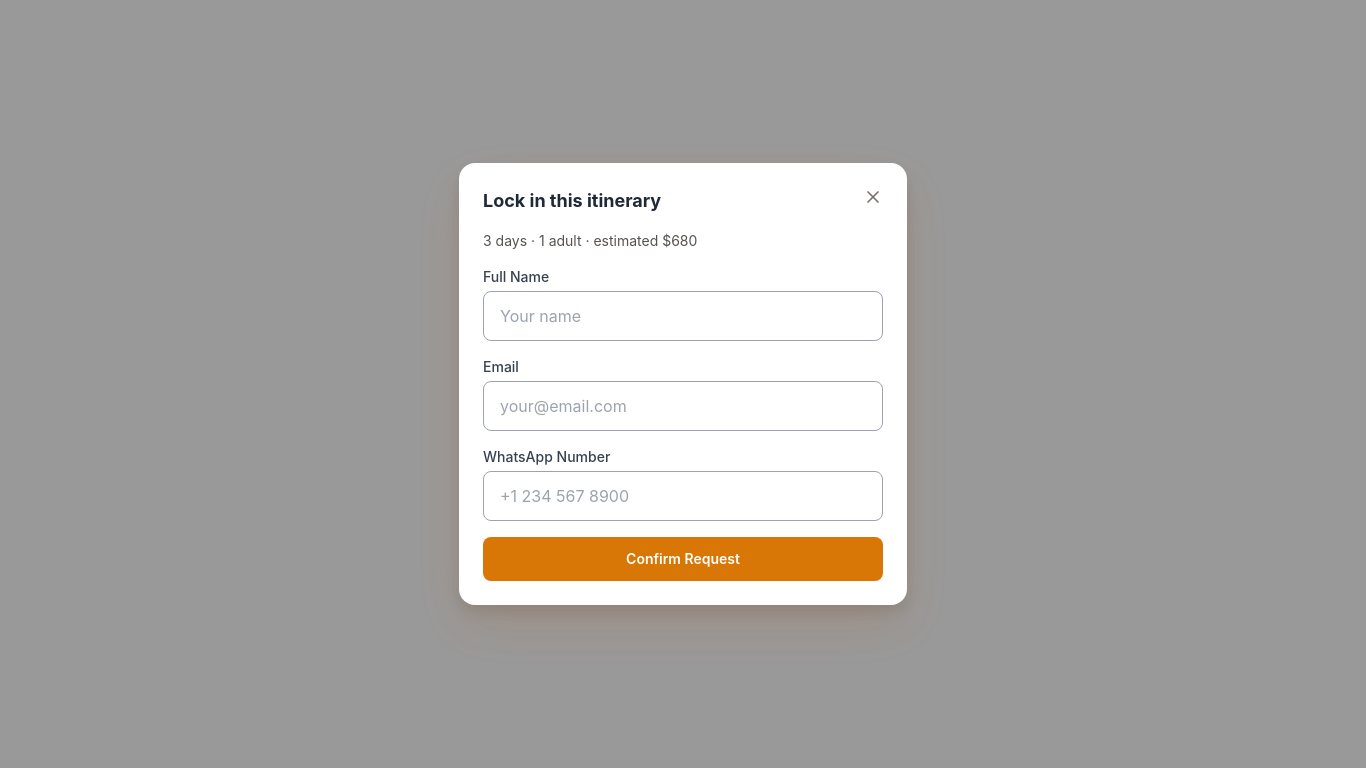
Test case: LockInDrawer › submits the calculator summary to /api/contact with source journey-architect
Type "Jane Doe" into the field labelled "Full Name".
click(683, 316); type("Jane Doe")  # box [483,291,883,341]
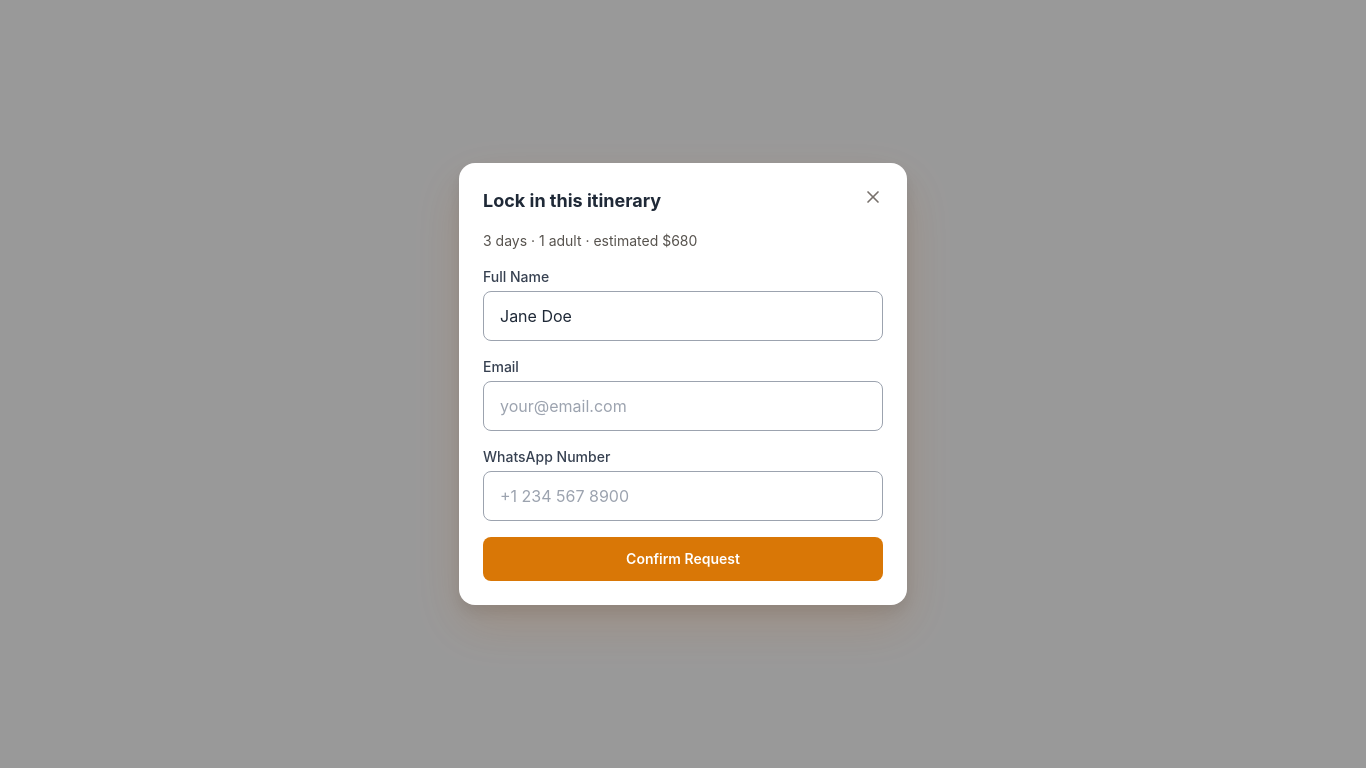
Type "jane@example.com" into the field labelled "Email".
click(683, 406); type("jane@example.com")  # box [483,381,883,431]
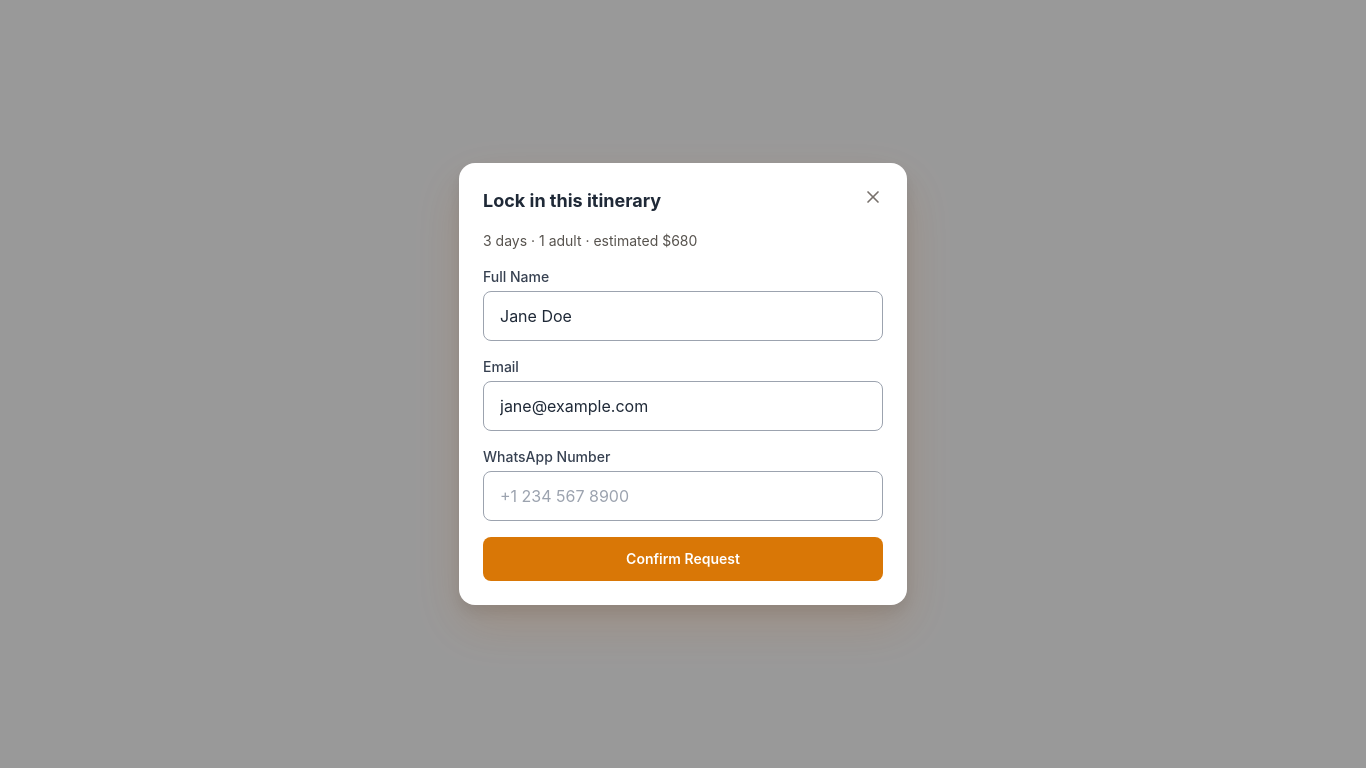
Click the button "Confirm Request".
click(683, 559)  # box [483,537,883,581]
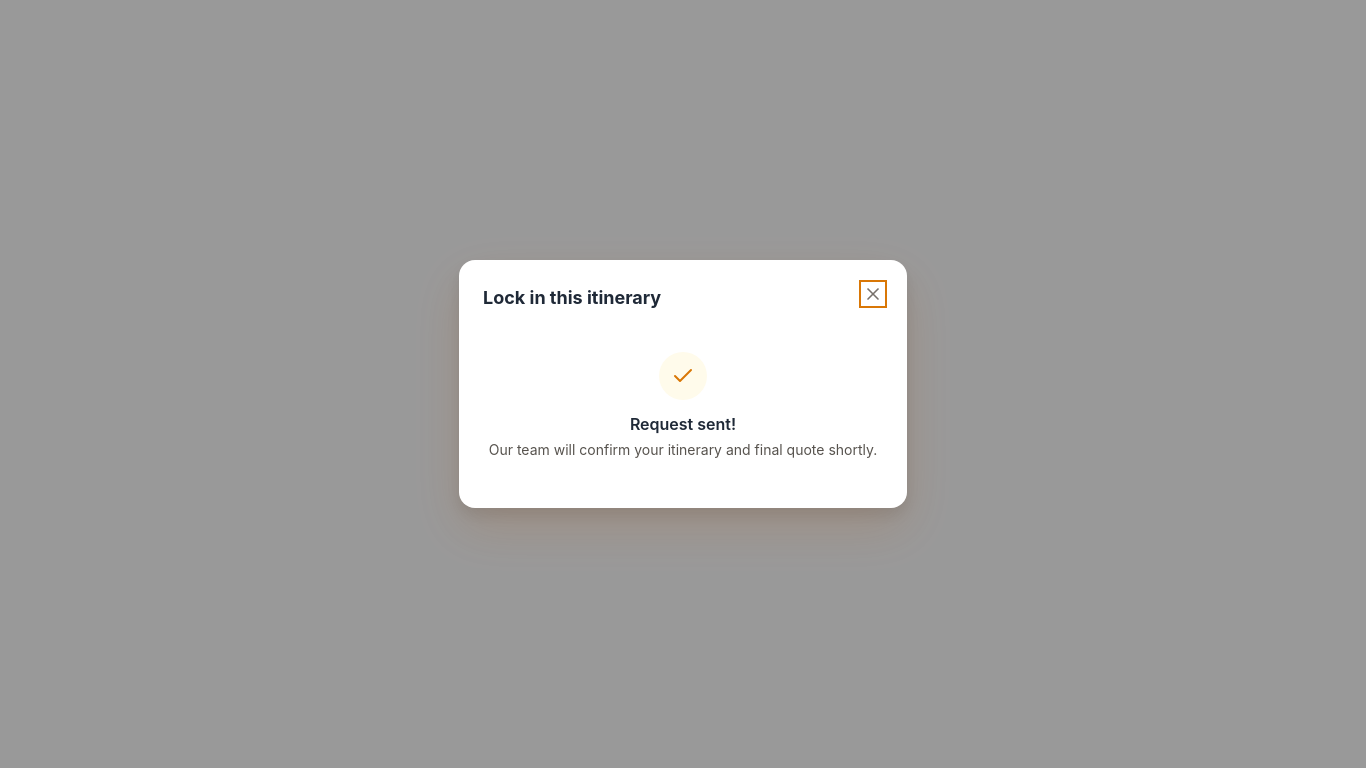
Now the text "Request sent!" is shown, box [630,414,736,434]
